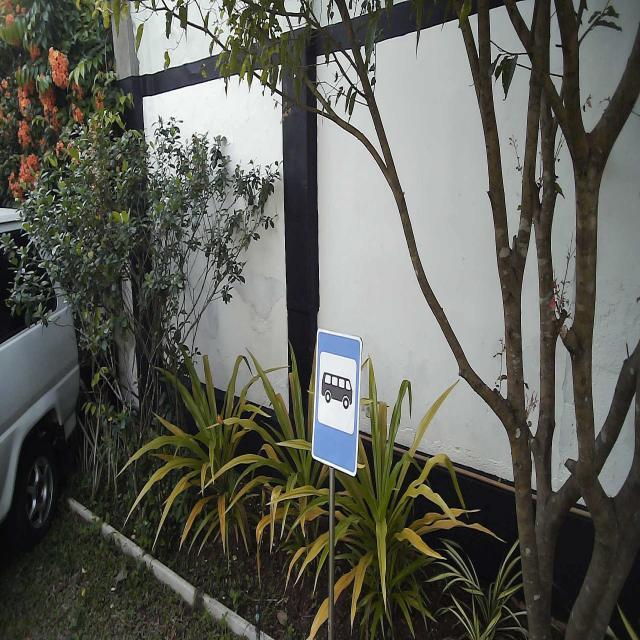bus_stop: (310, 325, 364, 478)
